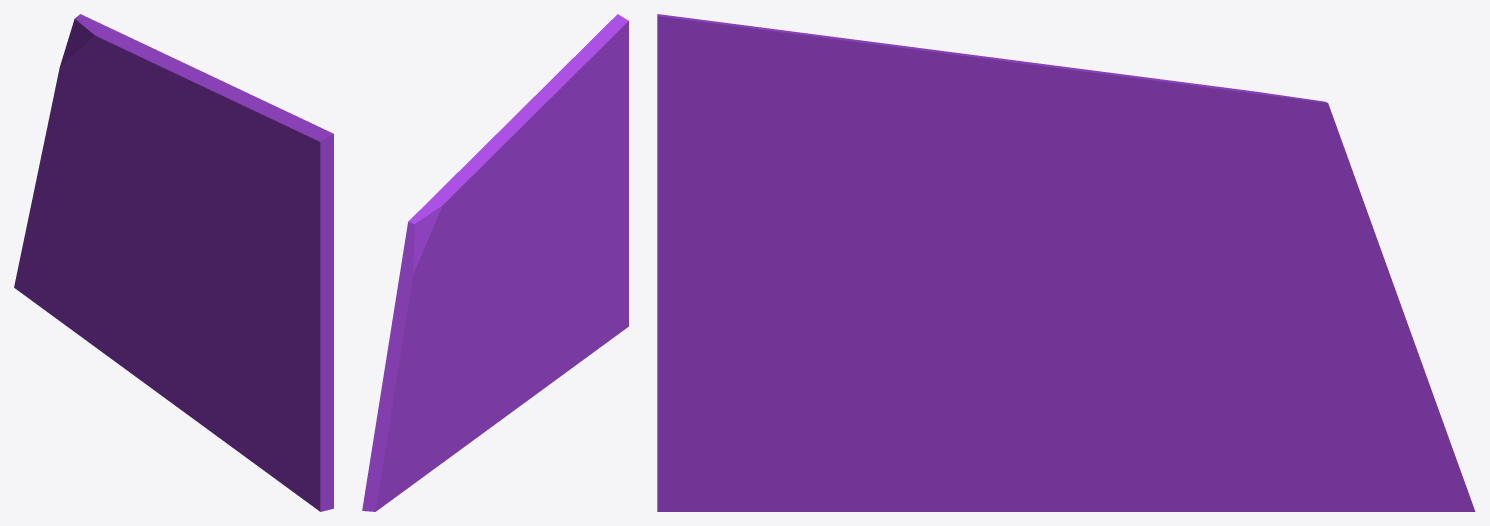
File: Glass_111_1_chunks.fbx
3 renders of one model, left to right at view 1: azimuth 30°, elevation 25°; view 2: azimuth 150°, elevation 25°; view 3: azimuth 270°, elevation 25°, orthographic. The views are drawn at different scales.
Parts seen in each view (by area): view 1: Glass_111_1_11, Glass_111_1_9, Glass_111_1_4, Glass_111_1_0, Glass_111_1_8, Glass_111_1_3, Glass_111_1_2, Glass_111_1_5, Glass_111_1_15, Glass_111_1_12, Glass_111_1_6, Glass_111_1_13 (+3 smaller); view 2: Glass_111_1_11, Glass_111_1_3, Glass_111_1_4, Glass_111_1_0, Glass_111_1_8, Glass_111_1_9, Glass_111_1_2, Glass_111_1_15, Glass_111_1_5, Glass_111_1_12, Glass_111_1_6, Glass_111_1_13 (+3 smaller); view 3: Glass_111_1_11, Glass_111_1_4, Glass_111_1_9, Glass_111_1_0, Glass_111_1_8, Glass_111_1_1, Glass_111_1_5, Glass_111_1_2, Glass_111_1_14, Glass_111_1_13, Glass_111_1_7, Glass_111_1_15 (+3 smaller).
Boxes of the visible parts, left/top/right/bottom form: Glass_111_1_11: left=228, top=99, right=333, bottom=351; Glass_111_1_9: left=225, top=287, right=333, bottom=511; Glass_111_1_4: left=100, top=212, right=210, bottom=410; Glass_111_1_0: left=51, top=162, right=159, bottom=350; Glass_111_1_8: left=158, top=105, right=251, bottom=318; Glass_111_1_3: left=14, top=72, right=93, bottom=314; Glass_111_1_2: left=59, top=14, right=153, bottom=182; Glass_111_1_5: left=183, top=362, right=333, bottom=511; Glass_111_1_15: left=103, top=31, right=213, bottom=110; Glass_111_1_12: left=141, top=109, right=206, bottom=192; Glass_111_1_6: left=209, top=326, right=333, bottom=504; Glass_111_1_13: left=84, top=17, right=143, bottom=154; Glass_111_1_11: left=552, top=14, right=628, bottom=211; Glass_111_1_3: left=362, top=278, right=441, bottom=511; Glass_111_1_4: left=447, top=272, right=537, bottom=459; Glass_111_1_0: left=406, top=256, right=496, bottom=489; Glass_111_1_8: left=495, top=102, right=571, bottom=292; Glass_111_1_9: left=550, top=194, right=628, bottom=327; Glass_111_1_2: left=398, top=215, right=490, bottom=311; Glass_111_1_15: left=438, top=108, right=540, bottom=208; Glass_111_1_5: left=515, top=327, right=626, bottom=409; Glass_111_1_12: left=481, top=150, right=534, bottom=257; Glass_111_1_6: left=536, top=294, right=623, bottom=335; Glass_111_1_13: left=413, top=192, right=482, bottom=247; Glass_111_1_11: left=657, top=14, right=891, bottom=292; Glass_111_1_4: left=953, top=255, right=1261, bottom=511; Glass_111_1_9: left=657, top=261, right=908, bottom=488; Glass_111_1_0: left=1096, top=243, right=1366, bottom=511; Glass_111_1_8: left=832, top=82, right=1062, bottom=342; Glass_111_1_1: left=1252, top=209, right=1467, bottom=511; Glass_111_1_5: left=657, top=408, right=1033, bottom=511; Glass_111_1_2: left=1118, top=97, right=1358, bottom=268; Glass_111_1_14: left=851, top=41, right=1128, bottom=181; Glass_111_1_13: left=1116, top=88, right=1312, bottom=239; Glass_111_1_7: left=867, top=254, right=1073, bottom=410; Glass_111_1_15: left=941, top=50, right=1231, bottom=144.
Size of the model in its own units: 27.2 by 721 by 1078.
